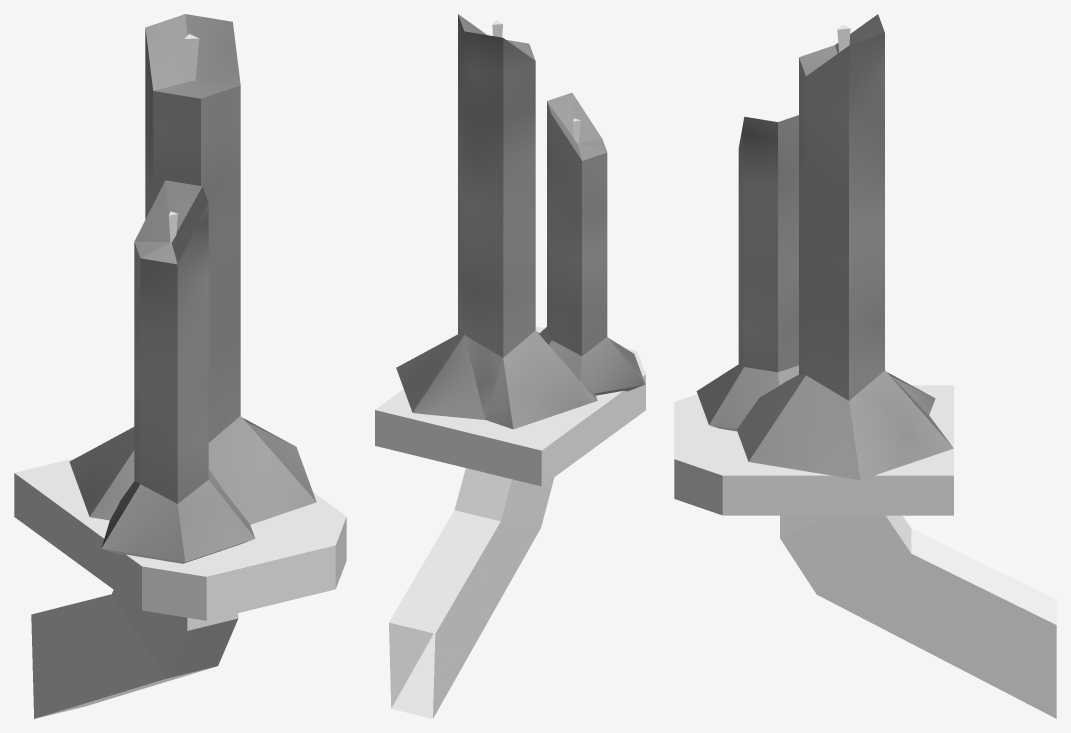
The model's file is Candle.fbx.
The picture shows the model from 3 angles, left to right: view 1: azimuth 30°, elevation 25°; view 2: azimuth 150°, elevation 25°; view 3: azimuth 270°, elevation 25°; orthographic projection. The views are drawn at different scales.
Parts seen in each view (by area): view 1: Candle; view 2: Candle; view 3: Candle.
Part boxes in pixels (box(x1,y1,x2,y2)): Candle: box(14, 14, 346, 718); Candle: box(375, 14, 645, 718); Candle: box(674, 14, 1056, 718).
Bounding box in the file's own units: 90.84 × 263 × 133.
1 material, 1 textured.
